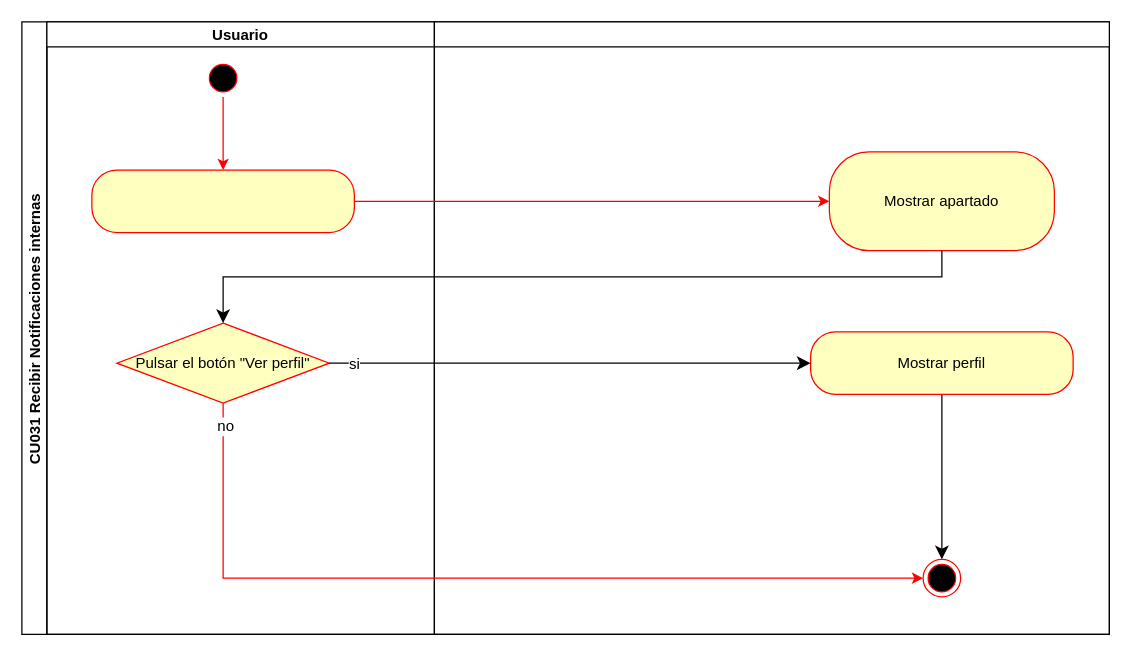
Some shapes in this 1131 by 656 pixel diagram are drawn without their labels. Each missing label, with the box of its shape:
Acceder al apartado "Perfil": (91, 169, 354, 232)
Sistema: (433, 21, 1109, 634)
